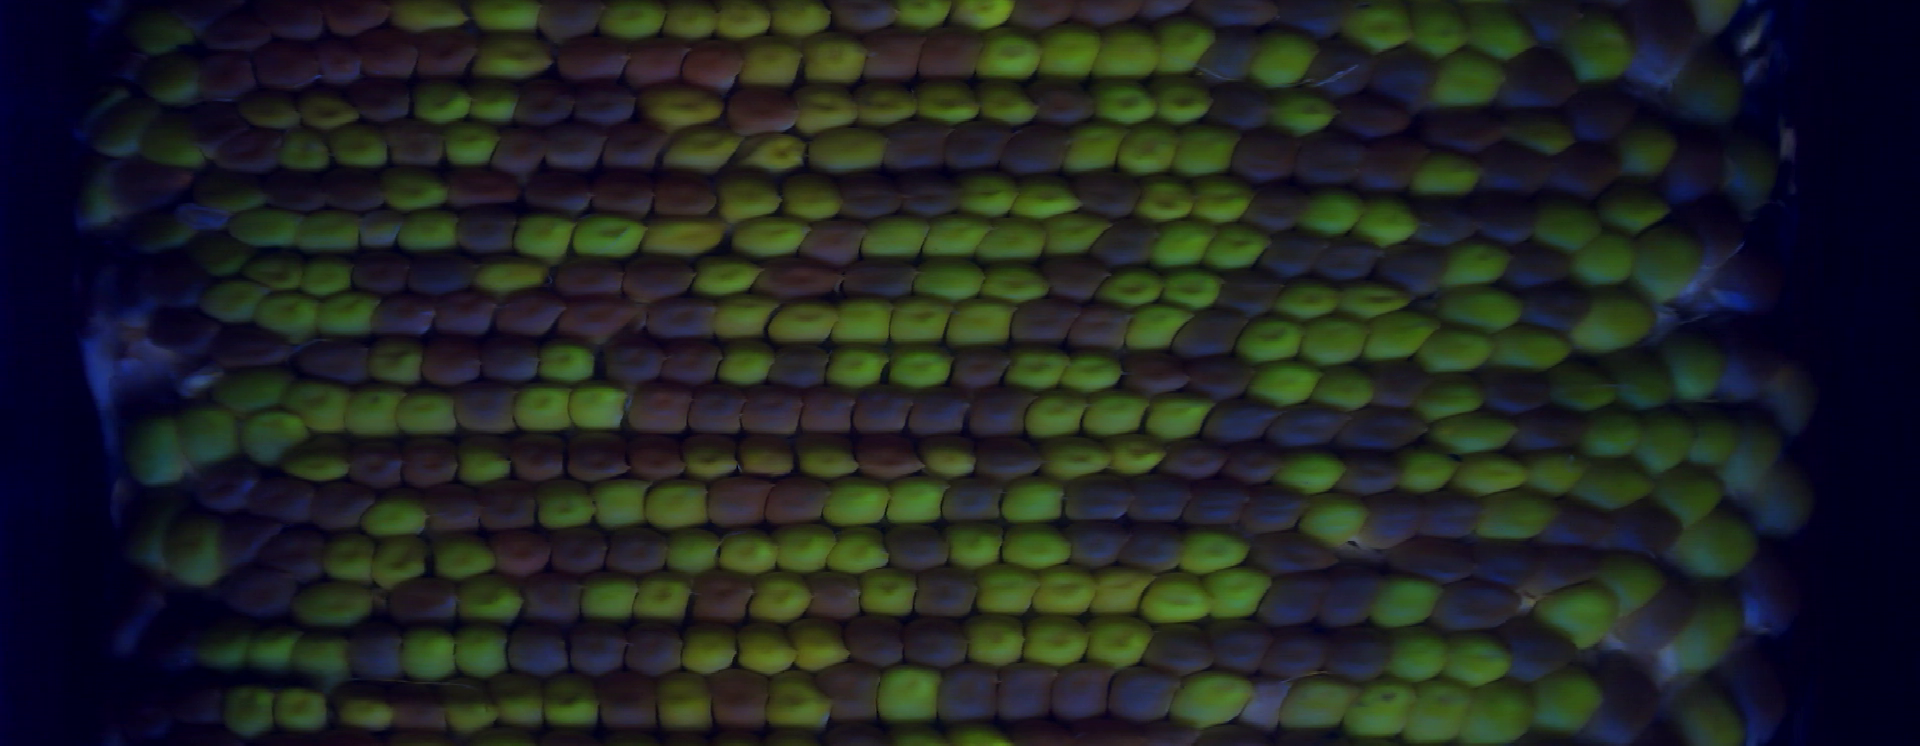fluorescent: (1533, 577, 1616, 646), (1635, 229, 1701, 314), (120, 414, 193, 488), (1678, 51, 1742, 129), (1669, 318, 1727, 405), (1674, 595, 1742, 668), (1668, 688, 1750, 746), (1675, 514, 1753, 575), (1273, 680, 1359, 733), (167, 511, 220, 590), (1729, 134, 1783, 212), (1533, 670, 1605, 728), (1577, 290, 1652, 344), (1400, 682, 1469, 740), (178, 403, 238, 469), (1174, 674, 1253, 724), (1619, 119, 1680, 183), (1370, 575, 1442, 628), (943, 296, 1018, 348), (1469, 682, 1532, 744), (1753, 472, 1810, 539), (1344, 679, 1408, 737), (1209, 565, 1273, 622), (1654, 468, 1722, 523), (1772, 364, 1824, 434), (464, 39, 552, 81), (1138, 576, 1213, 624), (804, 127, 887, 171), (1600, 556, 1664, 612), (454, 576, 525, 626), (1463, 9, 1531, 61), (1430, 58, 1502, 107), (1611, 354, 1670, 414), (640, 81, 725, 122), (569, 213, 651, 256), (285, 374, 343, 434), (975, 28, 1043, 78), (1431, 293, 1524, 330), (509, 385, 574, 437), (1580, 463, 1662, 505), (1173, 533, 1253, 576), (1022, 617, 1090, 668), (880, 661, 940, 718), (1722, 429, 1776, 491), (1553, 352, 1615, 405), (1300, 499, 1369, 548), (1172, 124, 1236, 176), (1573, 29, 1637, 82), (732, 217, 812, 258), (1482, 492, 1553, 539), (1093, 27, 1161, 76), (241, 416, 305, 468), (1638, 416, 1690, 480), (1000, 524, 1073, 570), (1342, 2, 1414, 48), (291, 581, 370, 622), (122, 211, 198, 254), (208, 374, 294, 412), (1605, 181, 1668, 233), (1447, 635, 1510, 686), (645, 480, 709, 530), (204, 277, 269, 326), (893, 293, 949, 349), (659, 127, 740, 167), (454, 626, 514, 679), (829, 298, 895, 345), (884, 344, 951, 391), (118, 500, 162, 571), (1331, 285, 1429, 317), (773, 519, 829, 575), (1431, 418, 1516, 454), (917, 213, 989, 256), (366, 338, 425, 391), (367, 540, 433, 587), (1082, 616, 1149, 663), (633, 575, 696, 624), (996, 486, 1067, 529), (512, 212, 576, 260), (1251, 32, 1307, 87), (288, 624, 347, 675), (541, 675, 600, 726), (656, 676, 715, 728), (187, 234, 252, 281), (1044, 28, 1104, 78), (333, 685, 400, 729), (736, 624, 793, 675), (342, 390, 400, 440), (1249, 360, 1318, 403), (144, 59, 206, 107), (358, 501, 430, 541), (227, 208, 299, 249), (748, 575, 811, 621), (913, 76, 983, 118), (1160, 24, 1216, 76), (1194, 175, 1251, 225), (473, 256, 551, 293), (711, 345, 782, 386), (141, 116, 201, 164), (827, 480, 887, 528), (1538, 203, 1603, 247), (984, 219, 1053, 261), (1442, 244, 1511, 285), (438, 121, 500, 168), (973, 566, 1035, 612), (1582, 234, 1636, 287), (138, 2, 193, 54), (1409, 6, 1464, 58), (827, 529, 885, 577), (682, 434, 742, 480), (1117, 127, 1177, 174), (595, 2, 669, 40), (294, 207, 359, 250), (1084, 396, 1149, 439), (596, 477, 649, 529), (913, 260, 982, 300), (320, 292, 375, 342), (767, 682, 829, 726), (780, 176, 842, 220), (1031, 572, 1093, 616), (1062, 122, 1119, 170), (1277, 453, 1347, 492), (531, 481, 599, 522), (962, 617, 1022, 663), (467, 76, 519, 127), (429, 539, 493, 581), (1204, 229, 1269, 271), (568, 385, 629, 429), (261, 295, 322, 339), (1152, 218, 1210, 265), (716, 176, 782, 217), (391, 1, 478, 32), (801, 38, 864, 80), (977, 81, 1041, 122), (1273, 93, 1337, 135), (578, 575, 638, 619), (678, 628, 738, 673), (322, 538, 372, 590), (404, 630, 454, 682), (495, 676, 547, 726), (276, 690, 331, 737), (662, 1, 724, 44), (453, 437, 509, 484), (767, 1, 838, 38), (689, 256, 763, 292), (1367, 314, 1425, 358), (196, 619, 247, 669), (1582, 412, 1635, 461), (793, 624, 847, 671), (1420, 334, 1490, 371), (1494, 328, 1564, 365), (1411, 159, 1478, 197), (711, 293, 768, 338), (742, 44, 804, 85), (1299, 322, 1362, 363), (380, 175, 448, 212), (298, 96, 364, 134), (1042, 442, 1108, 480), (1149, 396, 1209, 437), (1387, 637, 1447, 679), (856, 81, 911, 126), (240, 89, 296, 134), (1027, 396, 1085, 439), (718, 534, 782, 572), (245, 626, 296, 674), (536, 348, 595, 390), (824, 347, 887, 386), (1127, 306, 1185, 348), (411, 77, 467, 121), (208, 176, 268, 217), (793, 439, 857, 477), (394, 390, 451, 432), (864, 216, 921, 258), (1100, 80, 1156, 122), (333, 130, 394, 169), (467, 1, 545, 32), (643, 220, 721, 251), (1243, 321, 1300, 363), (662, 527, 715, 572), (231, 685, 276, 739), (1015, 181, 1078, 219), (1296, 195, 1359, 232), (1091, 570, 1145, 612), (978, 269, 1048, 303), (861, 575, 916, 616), (887, 479, 942, 521), (775, 300, 831, 341), (1138, 181, 1194, 222), (744, 137, 811, 171), (1163, 269, 1227, 305), (1095, 442, 1166, 474), (1156, 81, 1209, 124), (1101, 269, 1163, 305), (1411, 445, 1461, 489), (948, 527, 1000, 568), (793, 86, 860, 119), (408, 206, 457, 250), (1315, 370, 1370, 409), (93, 108, 143, 151), (1270, 285, 1337, 317), (444, 685, 496, 726), (1359, 202, 1411, 244), (1520, 116, 1577, 153), (280, 130, 331, 171), (1011, 350, 1064, 390), (1420, 379, 1480, 413), (737, 437, 791, 475), (715, 2, 770, 39), (916, 442, 975, 477), (285, 450, 348, 481), (1067, 359, 1120, 396), (1462, 461, 1529, 490), (1689, 423, 1731, 468), (69, 171, 107, 220), (947, 1, 1007, 32), (970, 174, 1016, 213), (1529, 458, 1577, 496), (356, 211, 398, 251), (1695, 1, 1739, 39), (1048, 219, 1106, 247), (249, 260, 304, 289), (298, 266, 349, 296), (896, 1, 951, 29)
nonfluorescent: (1589, 654, 1662, 739), (1625, 1, 1695, 85), (1499, 43, 1577, 108), (1735, 658, 1791, 745), (1106, 660, 1179, 726), (707, 661, 769, 734), (516, 167, 599, 218), (1441, 582, 1532, 628), (1717, 322, 1767, 405), (1753, 541, 1798, 635), (100, 582, 158, 653), (1478, 145, 1549, 202), (1502, 624, 1575, 679), (1635, 582, 1689, 655), (1357, 490, 1425, 548), (562, 429, 631, 486), (1615, 502, 1685, 559), (1048, 663, 1109, 726), (1085, 218, 1162, 268), (1371, 45, 1440, 102), (736, 386, 817, 434), (1725, 238, 1777, 312), (295, 338, 370, 390), (964, 437, 1051, 481), (598, 675, 659, 737), (267, 519, 331, 579), (1549, 145, 1618, 200), (1262, 624, 1324, 685), (1389, 539, 1476, 582), (1342, 405, 1427, 450), (1243, 533, 1332, 575), (1542, 492, 1614, 544), (620, 380, 688, 434), (1232, 127, 1300, 181), (1524, 281, 1594, 333), (1007, 293, 1068, 353), (1324, 624, 1389, 680), (841, 611, 909, 665), (414, 24, 482, 77), (820, 661, 879, 723), (994, 665, 1056, 724), (640, 290, 715, 338), (1264, 572, 1330, 626), (420, 334, 487, 387), (1242, 484, 1314, 533), (1501, 243, 1573, 292), (135, 243, 195, 301), (383, 576, 457, 624), (430, 292, 500, 342), (1669, 130, 1722, 196), (211, 321, 291, 364), (564, 617, 622, 677), (1342, 87, 1414, 135), (504, 429, 566, 485), (912, 566, 978, 617), (83, 230, 131, 301), (866, 24, 924, 82), (547, 524, 615, 575), (448, 383, 516, 434), (1304, 124, 1360, 184), (593, 163, 653, 219), (249, 465, 310, 521), (940, 661, 994, 724), (1332, 560, 1385, 624), (882, 119, 945, 171), (851, 437, 927, 481), (516, 570, 580, 621), (196, 2, 266, 50), (1141, 622, 1211, 670), (345, 432, 403, 490), (851, 380, 909, 437), (905, 616, 964, 673), (710, 474, 769, 530), (403, 440, 462, 496), (624, 429, 684, 484), (212, 572, 283, 619), (1070, 171, 1141, 218), (945, 119, 1008, 171), (478, 333, 541, 385), (491, 292, 563, 337), (1509, 412, 1584, 454), (756, 258, 841, 296), (1124, 349, 1194, 396), (1206, 616, 1262, 674), (509, 71, 567, 127), (733, 89, 804, 135), (1538, 545, 1605, 593), (1417, 196, 1479, 247), (503, 626, 568, 675), (621, 614, 680, 668), (1379, 240, 1449, 285), (1472, 197, 1538, 245), (148, 305, 209, 356), (1067, 309, 1130, 358), (438, 163, 516, 203), (553, 303, 636, 341), (924, 24, 980, 81), (422, 480, 480, 534), (1367, 358, 1431, 405), (653, 171, 718, 219), (1573, 86, 1626, 145), (1067, 475, 1133, 522), (1307, 45, 1368, 96), (626, 37, 689, 85), (1135, 472, 1193, 524), (883, 526, 951, 570), (593, 339, 661, 383), (1179, 311, 1248, 355), (947, 343, 1011, 390), (264, 165, 329, 212), (909, 387, 969, 437), (1689, 197, 1738, 258), (1205, 401, 1275, 443), (1473, 535, 1540, 579), (1478, 372, 1551, 413), (484, 528, 547, 575), (389, 685, 448, 735), (480, 480, 540, 529), (552, 43, 629, 81), (369, 293, 435, 337), (611, 523, 667, 575), (407, 254, 474, 296), (841, 174, 905, 219), (1189, 479, 1248, 528), (1333, 456, 1404, 496), (219, 127, 279, 175), (309, 484, 373, 528), (658, 342, 722, 386), (551, 251, 620, 293), (326, 165, 387, 212), (845, 263, 917, 303), (1425, 491, 1484, 539), (1033, 81, 1093, 127), (359, 29, 419, 76), (803, 568, 856, 621), (1275, 403, 1343, 443), (1008, 119, 1062, 170), (1198, 1, 1284, 33), (122, 160, 185, 205), (696, 572, 754, 619), (804, 216, 864, 261), (347, 626, 400, 676), (800, 383, 853, 434), (898, 171, 959, 216), (1247, 183, 1304, 229), (1160, 439, 1226, 479), (195, 51, 253, 97), (322, 1, 394, 38), (1060, 523, 1124, 565), (1212, 276, 1282, 314), (969, 393, 1029, 437), (1222, 443, 1287, 484), (621, 261, 694, 296), (770, 475, 830, 518), (1189, 355, 1249, 398), (264, 1, 324, 44), (1425, 105, 1495, 142), (459, 207, 520, 249), (1258, 232, 1320, 272), (689, 43, 743, 89), (770, 341, 825, 386), (1326, 236, 1382, 281), (1212, 85, 1269, 129), (576, 81, 640, 119), (1370, 142, 1419, 192), (193, 461, 241, 512), (361, 78, 416, 122), (688, 385, 737, 434), (942, 479, 1000, 519), (1204, 28, 1249, 80), (345, 254, 407, 292), (545, 129, 604, 168), (538, 1, 598, 39), (264, 40, 316, 85), (609, 124, 662, 165), (1046, 258, 1104, 296), (190, 98, 231, 151), (1013, 1, 1078, 34), (830, 1, 893, 36), (216, 510, 256, 561), (125, 481, 190, 513), (1291, 2, 1347, 38), (493, 132, 553, 165), (1129, 529, 1177, 570), (174, 682, 217, 726), (388, 130, 442, 164), (316, 40, 359, 81), (1079, 1, 1142, 27), (151, 635, 189, 669)
